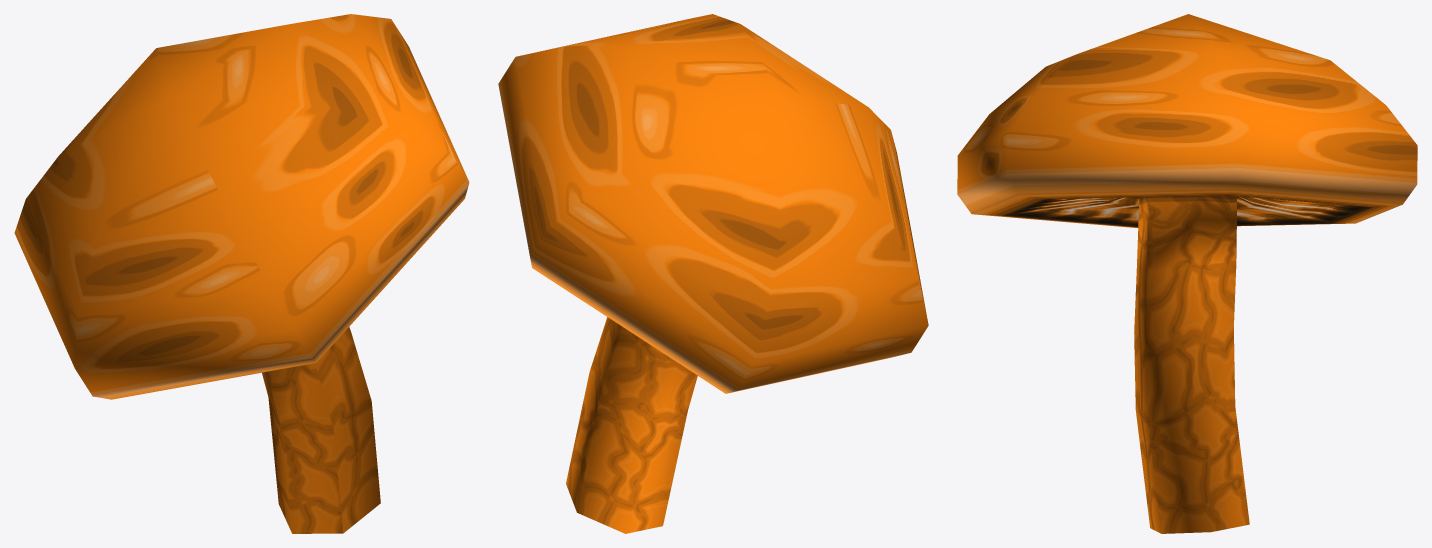
Rendered from sideShroomTwo.fbx.
The picture shows the model from 3 angles, left to right: view 1: azimuth 30°, elevation 25°; view 2: azimuth 150°, elevation 25°; view 3: azimuth 270°, elevation 25°; orthographic projection. The views are drawn at different scales.
Parts seen in each view (by area): view 1: sideShroomTwo; view 2: sideShroomTwo; view 3: sideShroomTwo.
Part boxes in pixels (x1,y1,x2,y2): sideShroomTwo: (14,14,469,533); sideShroomTwo: (498,14,928,533); sideShroomTwo: (957,14,1417,533).
Size of the model in its own units: 8.21 by 10.06 by 8.79.
